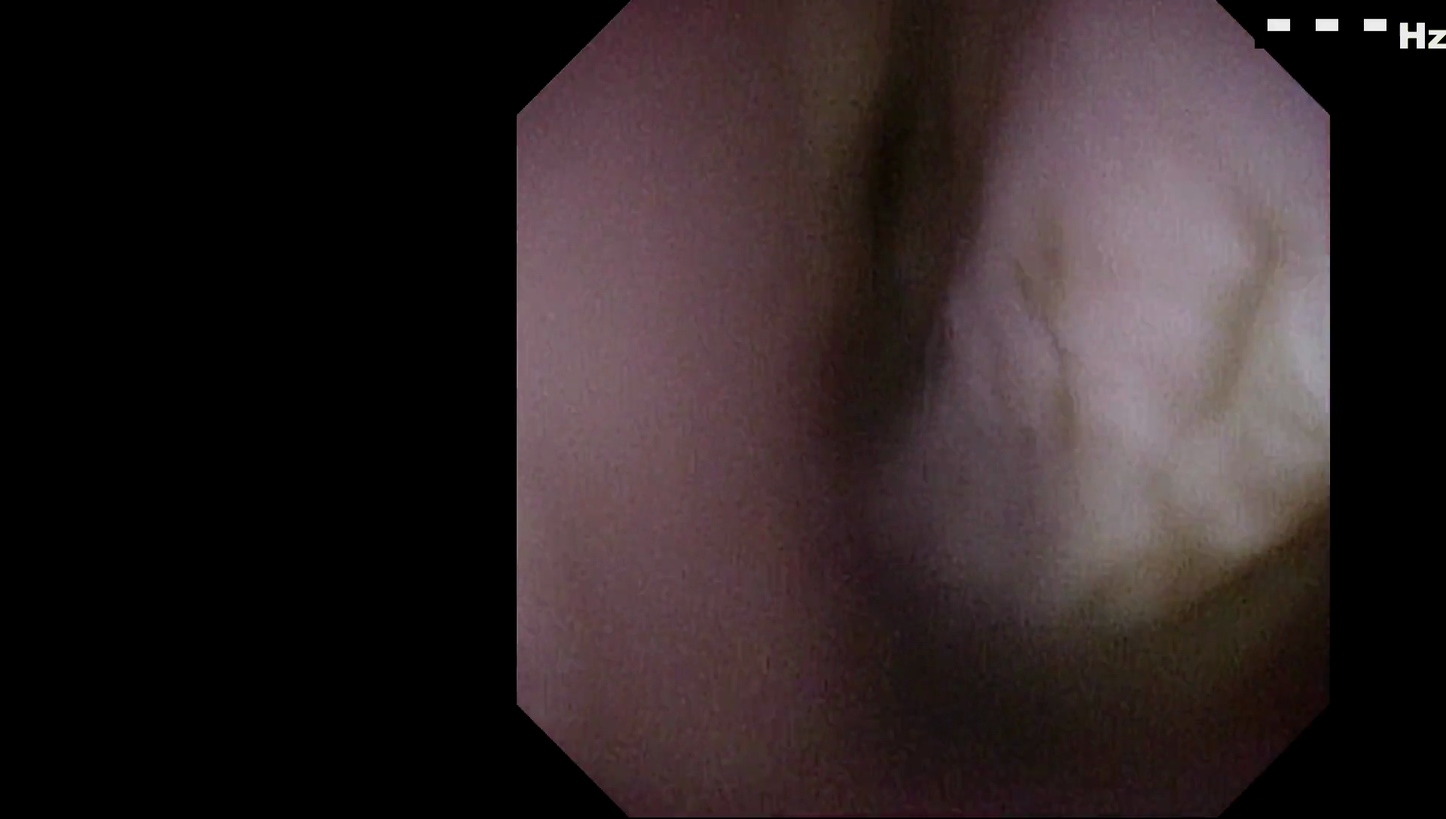close_wall: (523, 47, 764, 709)
next: (815, 526, 1086, 790), (828, 20, 953, 427)
